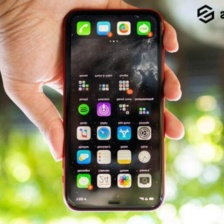phone: (60, 5, 166, 215)
